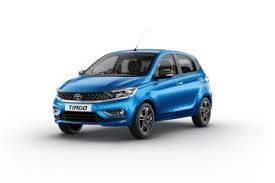Tiago: (48, 44, 214, 141)
